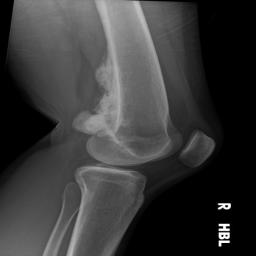cancer: (72, 47, 123, 136)
